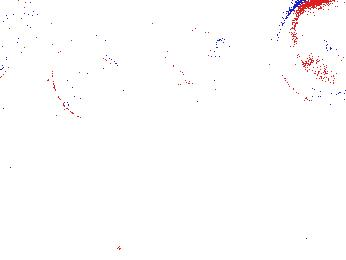moon jellyfish: (276, 1, 346, 105), (51, 45, 128, 124), (27, 1, 135, 50), (119, 2, 222, 45), (165, 26, 220, 89), (1, 1, 26, 77)
